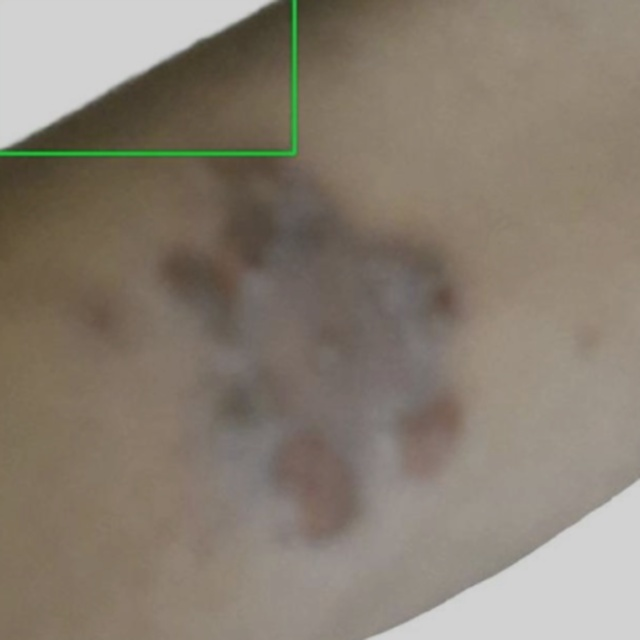Eczema: (0, 0, 294, 153)
